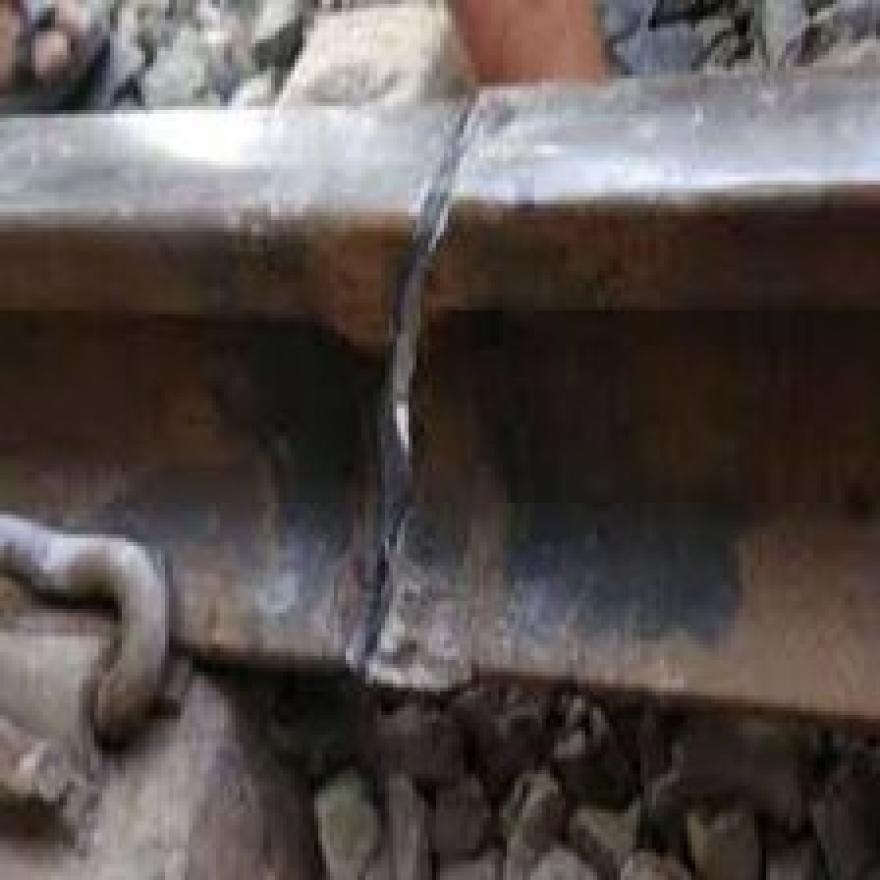railway-gap: (142, 64, 666, 704)
